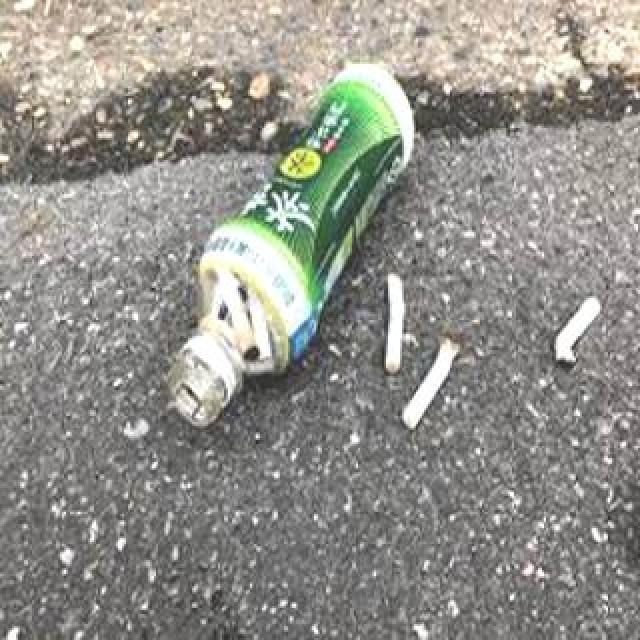Pet_Bottle: (170, 155, 368, 427)
